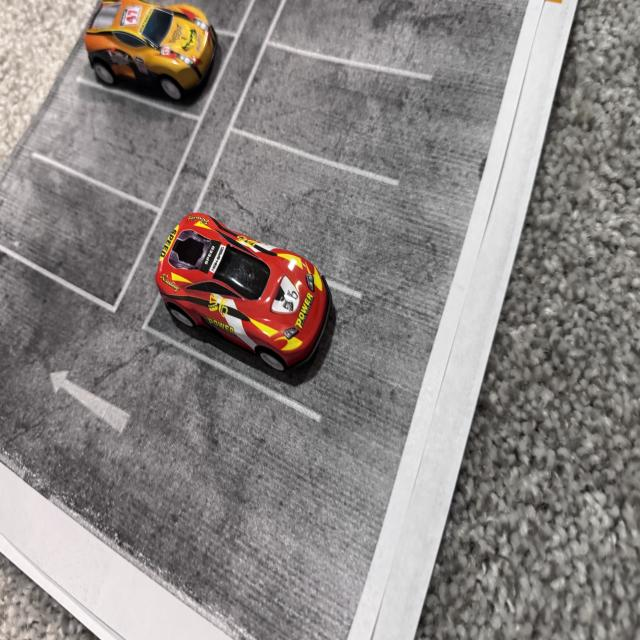car: (87, 170, 410, 430), (58, 0, 268, 123)
